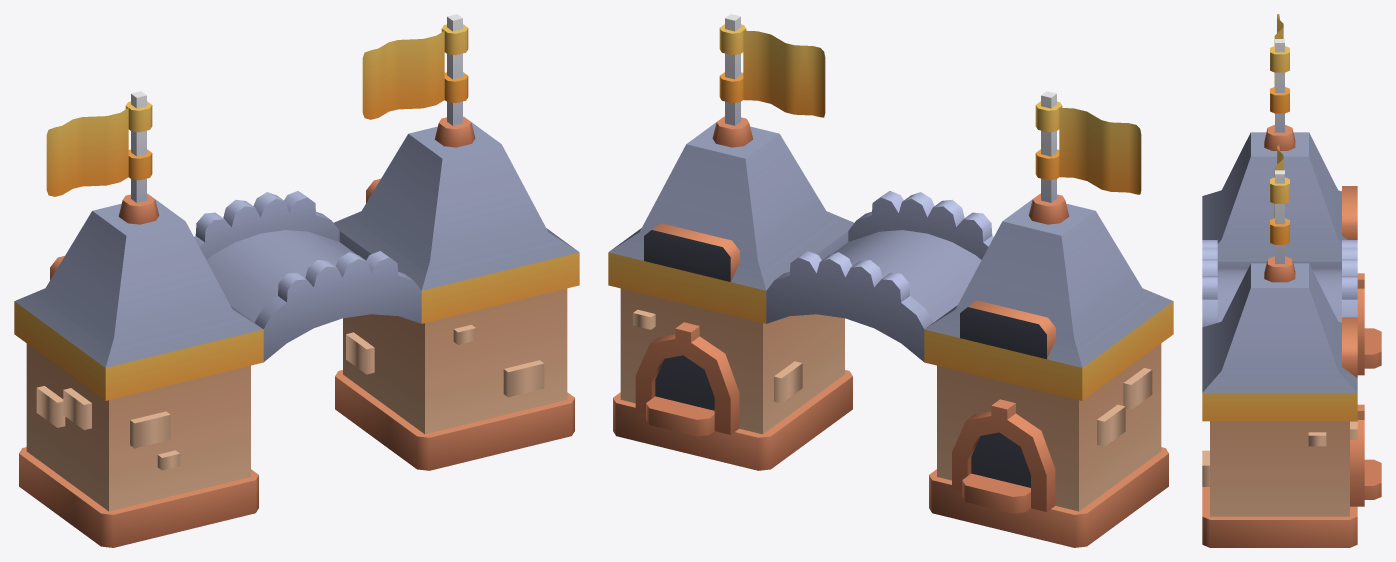
File: kenney-coaster-park-entrance.glb
The picture shows the model from 3 angles, left to right: view 1: azimuth 30°, elevation 25°; view 2: azimuth 150°, elevation 25°; view 3: azimuth 270°, elevation 25°; orthographic projection. The views are drawn at different scales.
Visible parts, largest first — view 1: park-entrance; view 2: park-entrance; view 3: park-entrance.
Boxes of the visible parts, x1,y1,x2,y2 form: park-entrance: [14, 14, 579, 547]; park-entrance: [608, 14, 1173, 547]; park-entrance: [1202, 14, 1381, 547].
Size of the model in its own units: 3.09 by 2.43 by 1.16.
Materials: 1 (1 with a texture image).
